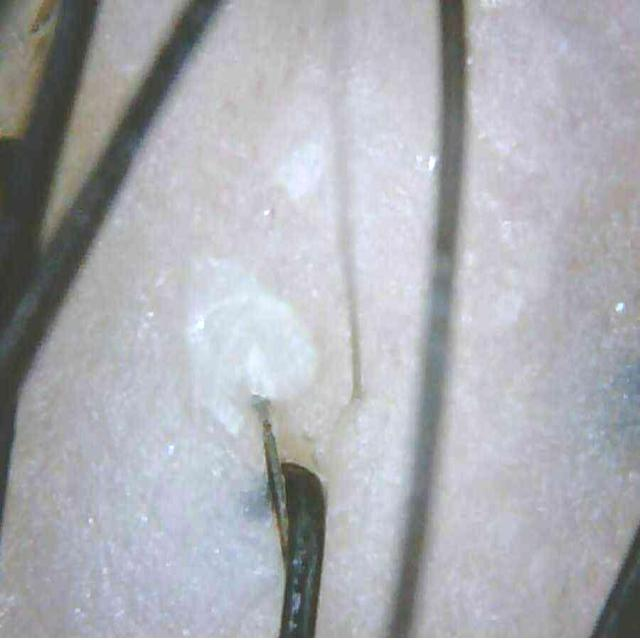d: (183, 251, 322, 440), (276, 140, 322, 200)
